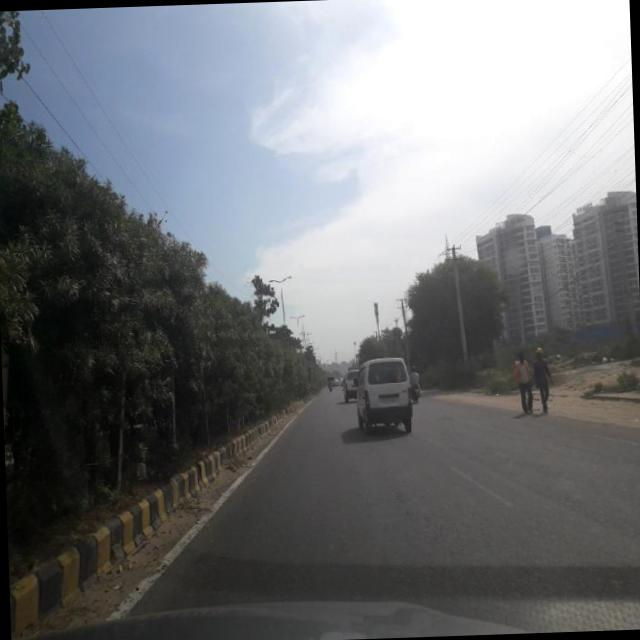crack: (185, 408, 636, 638)
